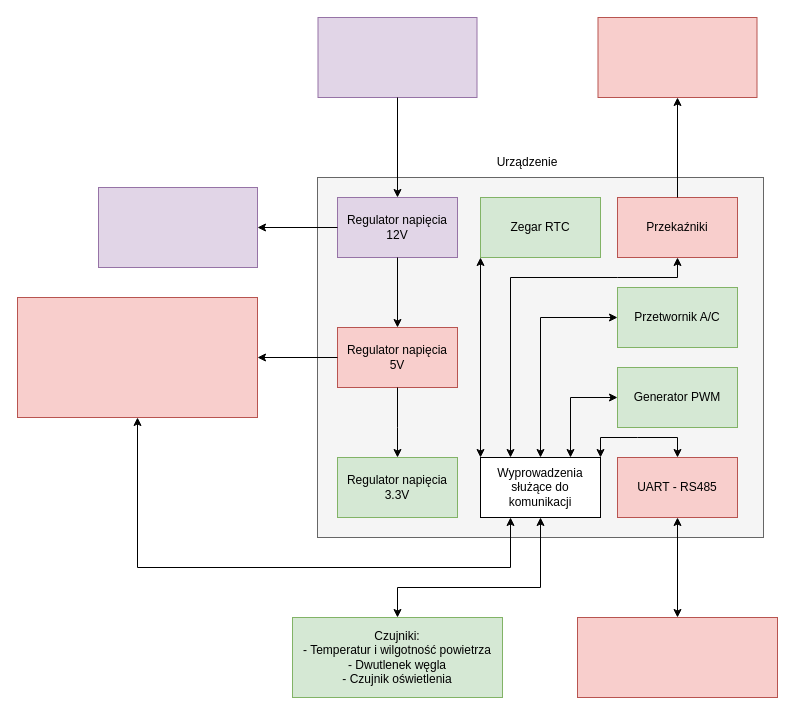
The diagram is 795 pixels wide and 715 high, and some of its shapes have lost their labels. Each missing label, with the box of its shape:
Czujnik gleby NPK: (576, 616, 778, 698)
Pompa wody: (597, 16, 757, 98)
Rasbperry Pi 4B: (16, 296, 258, 418)
Sterowniki diod: (98, 186, 258, 268)
Zewnętrzny zasilacz impulsowy: (317, 16, 477, 98)
